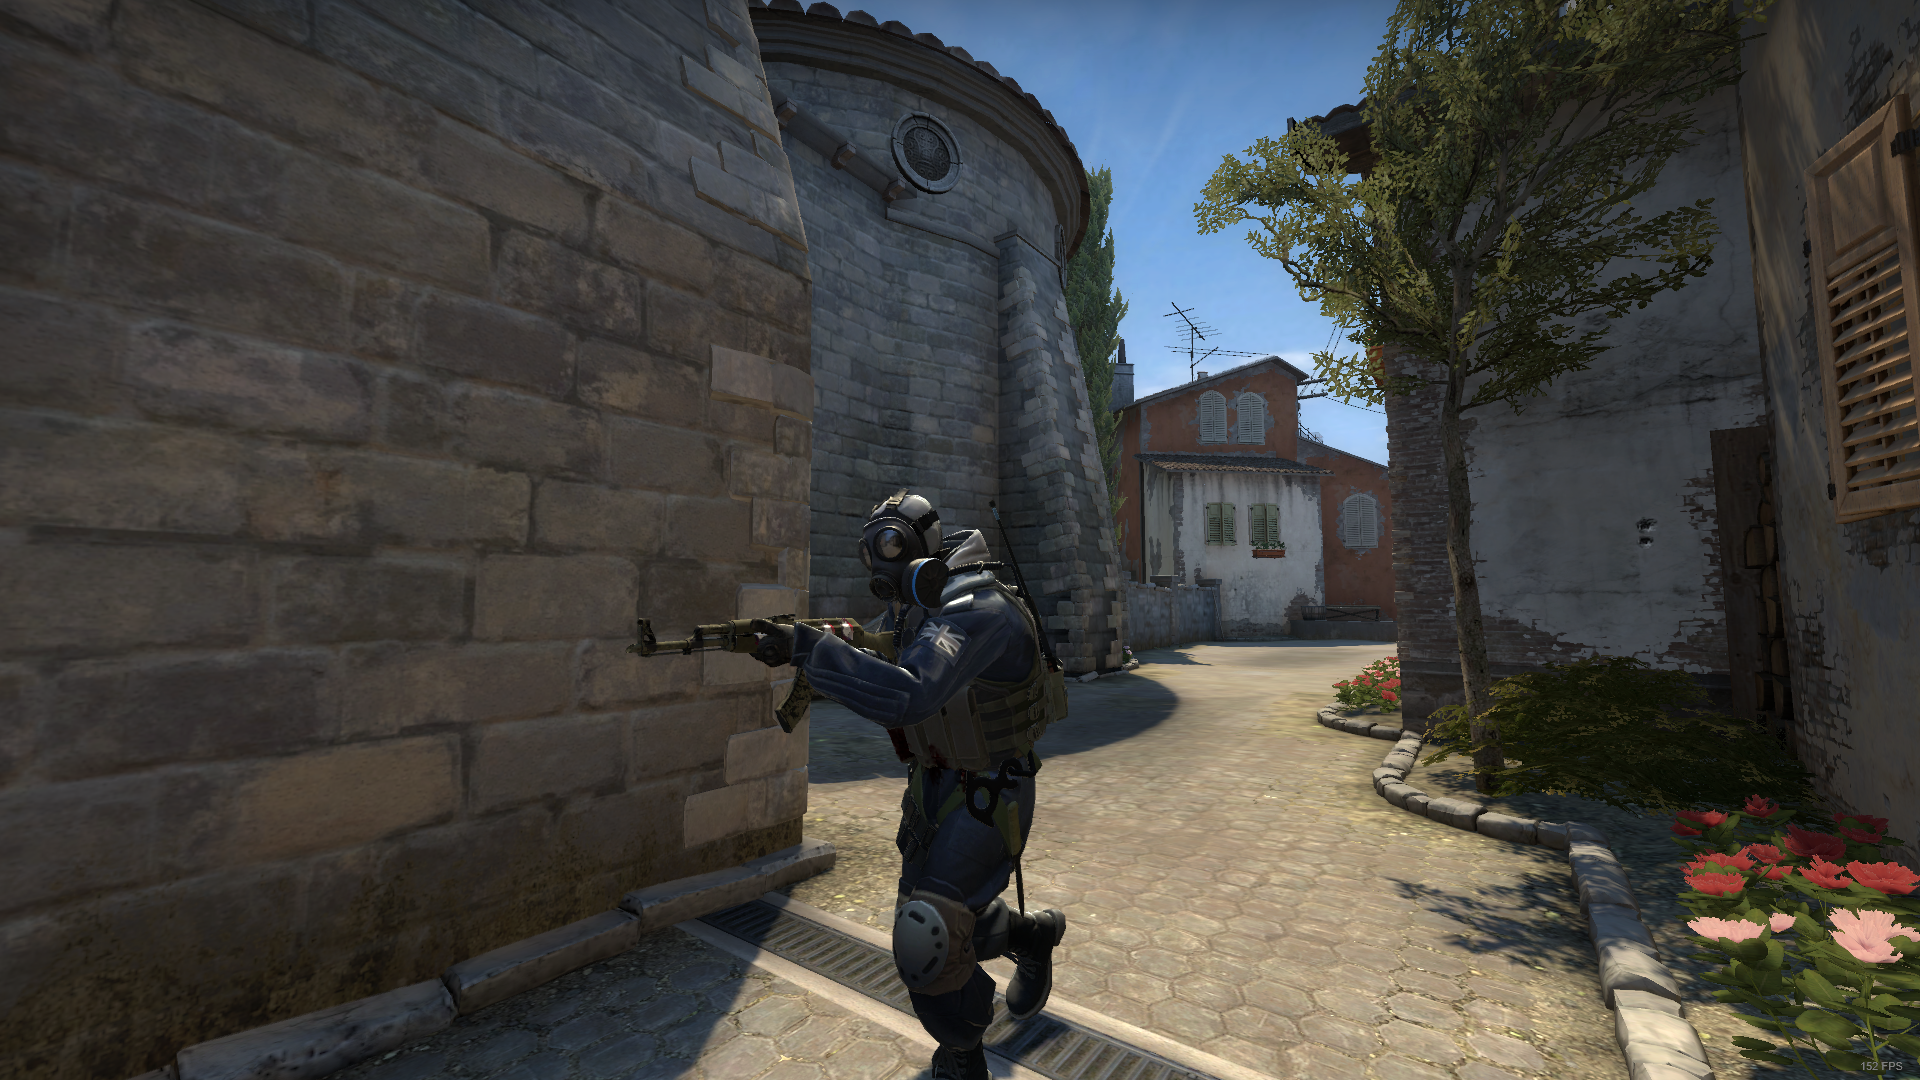ct: (796, 492, 1102, 1080)
